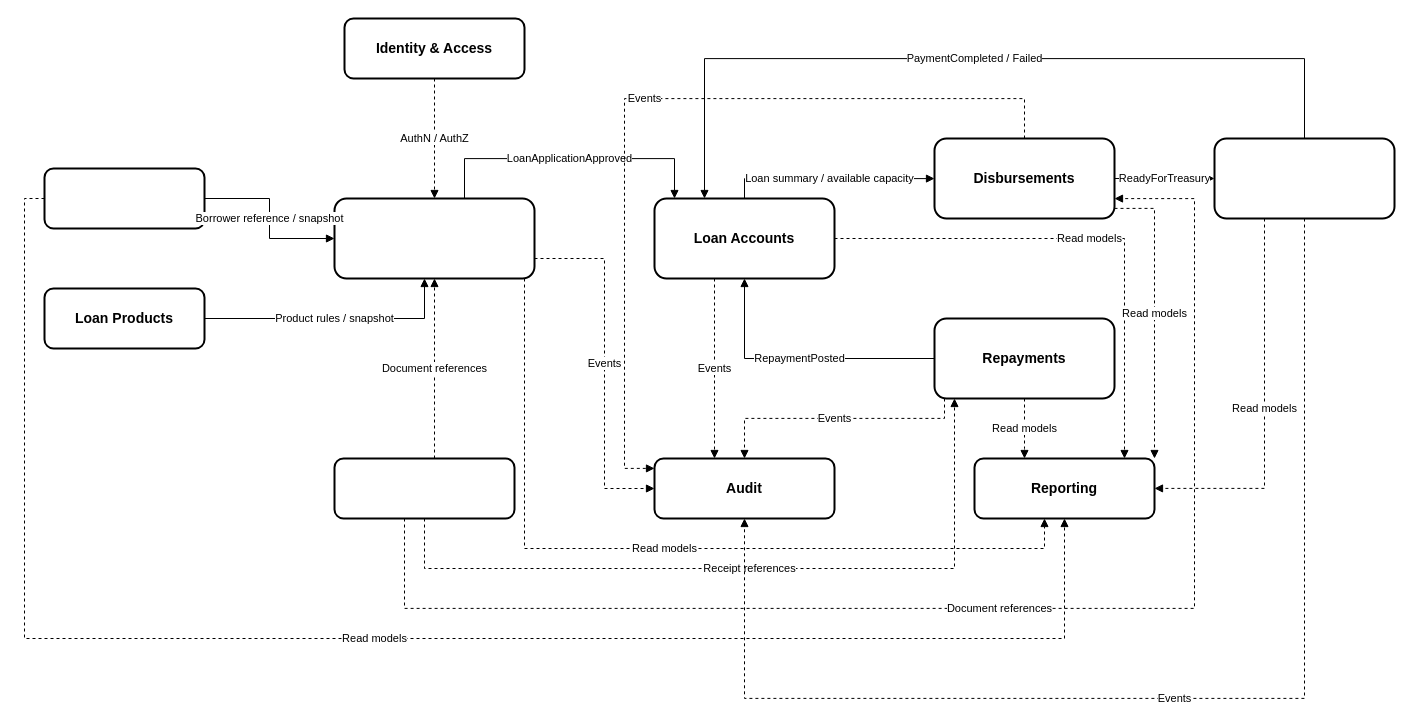
The diagram is 1413 pixels wide and 724 high, and some of its shapes have lost their labels. The centre of each missing label's shape, as x and y in pixels:
"Borrowers" belongs at pixel 124 198.
"Documents" belongs at pixel 424 488.
"Loan Origination" belongs at pixel 434 238.
"Treasury" belongs at pixel 1304 178.
